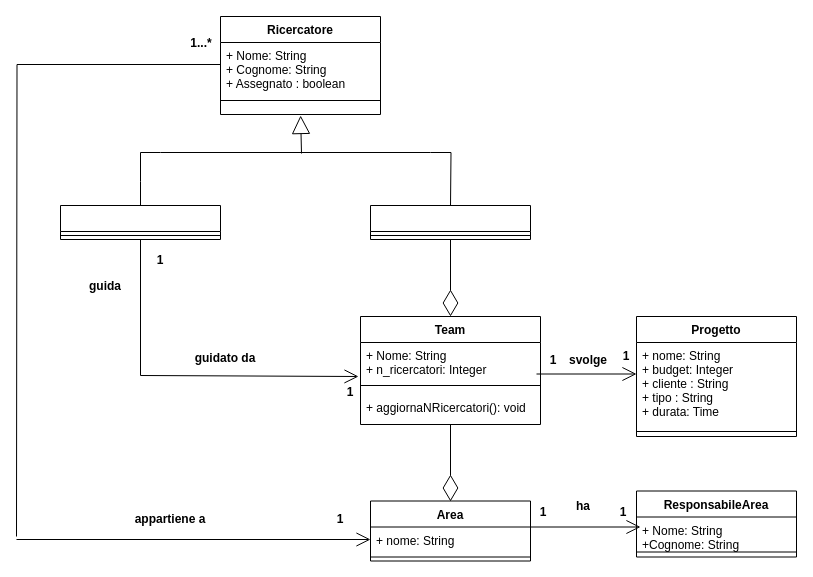
The diagram is 813 pixels wide and 577 high, and some of its shapes have lost their labels. The centre of each missing label's shape, as x and y in pixels:
"RicercatoreJunior" belongs at (450,222).
"RicercatoreSenior" belongs at (140,222).
